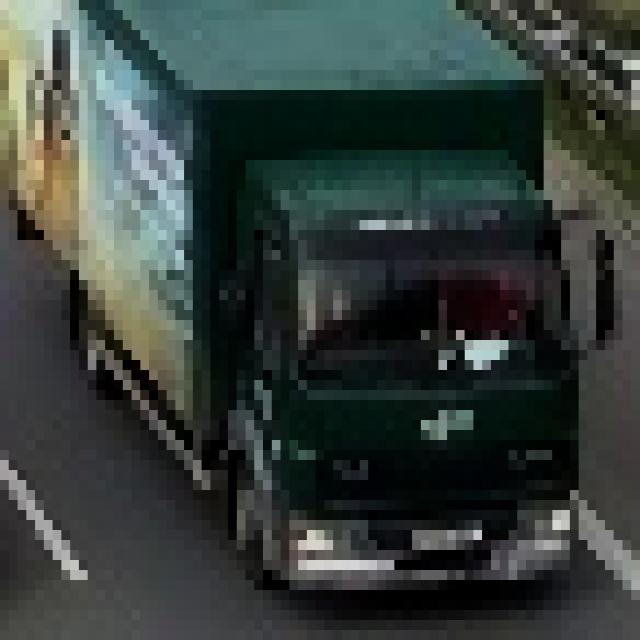truck: (1, 1, 615, 591)
